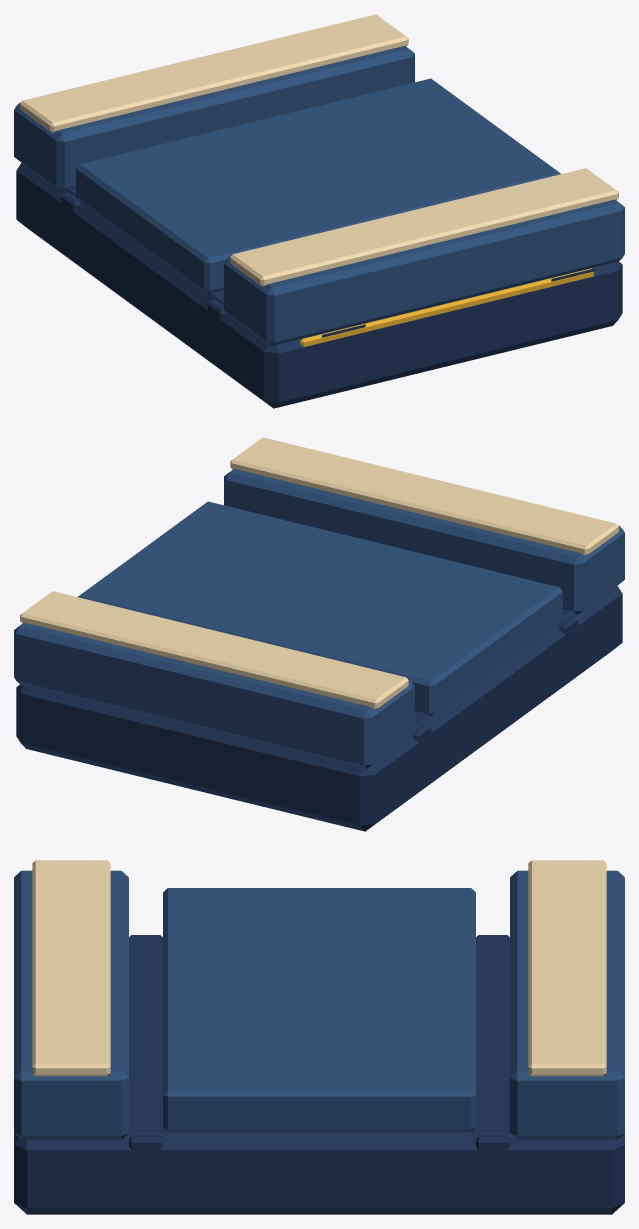
Rendered from launch_rail.glb.
3 renders of one model, top to bottom at view 1: azimuth 30°, elevation 25°; view 2: azimuth 150°, elevation 25°; view 3: azimuth 270°, elevation 25°, orthographic. The views are drawn at different scales.
Visible parts, largest first — view 1: LaunchRailMesh; view 2: LaunchRailMesh; view 3: LaunchRailMesh.
Part boxes in pixels (left/top/right/bottom): LaunchRailMesh: left=14, top=14, right=624, bottom=408; LaunchRailMesh: left=14, top=437, right=624, bottom=831; LaunchRailMesh: left=14, top=860, right=624, bottom=1214.
Size of the model in its own units: 1 by 0.35 by 1.25.
